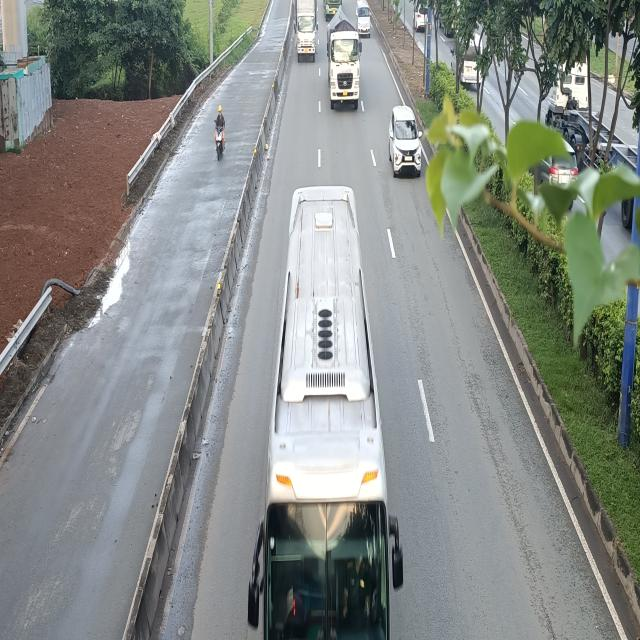car: (391, 106, 423, 180)
coach: (245, 191, 400, 640)
truck: (328, 15, 364, 110), (295, 1, 319, 64)
